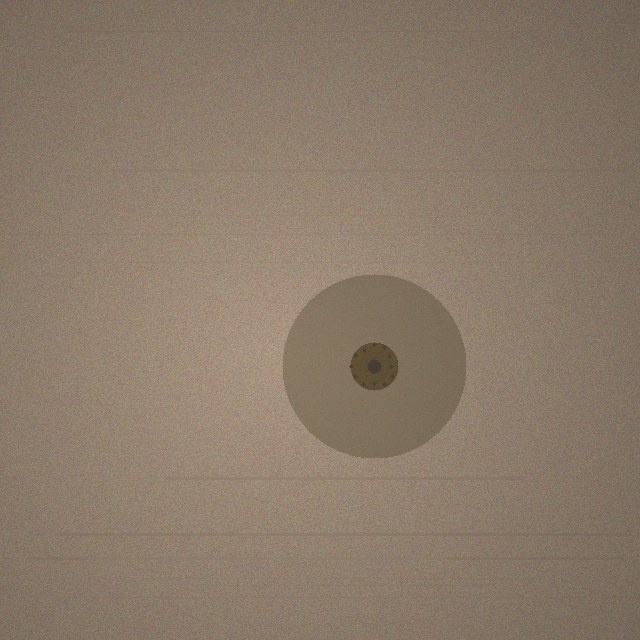cold_weld: (282, 274, 466, 458)
